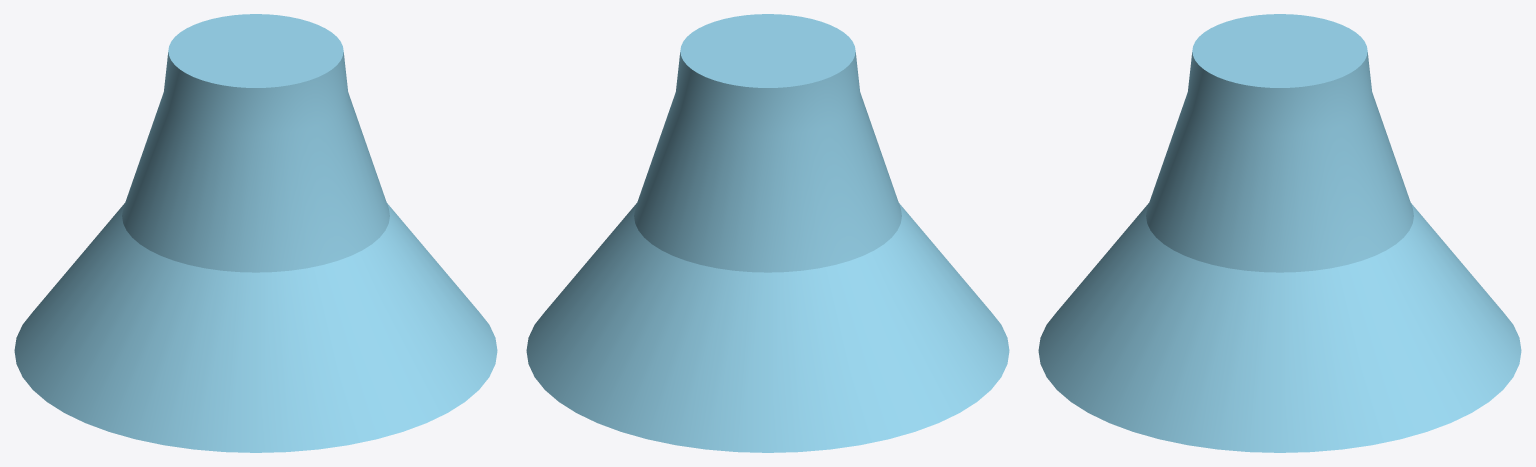
Rendered from water_neck.glb.
3 views of the same model, side by side, from view 1: azimuth 30°, elevation 25°; view 2: azimuth 150°, elevation 25°; view 3: azimuth 270°, elevation 25° (orthographic).
Parts seen in each view (by area): view 1: water_neck; view 2: water_neck; view 3: water_neck.
Part boxes in pixels (left/top/right/bottom): water_neck: left=14, top=14, right=497, bottom=452; water_neck: left=526, top=14, right=1009, bottom=452; water_neck: left=1038, top=14, right=1521, bottom=452.
Bounding box in the file's own units: 0.0584 × 0.04 × 0.0584.
